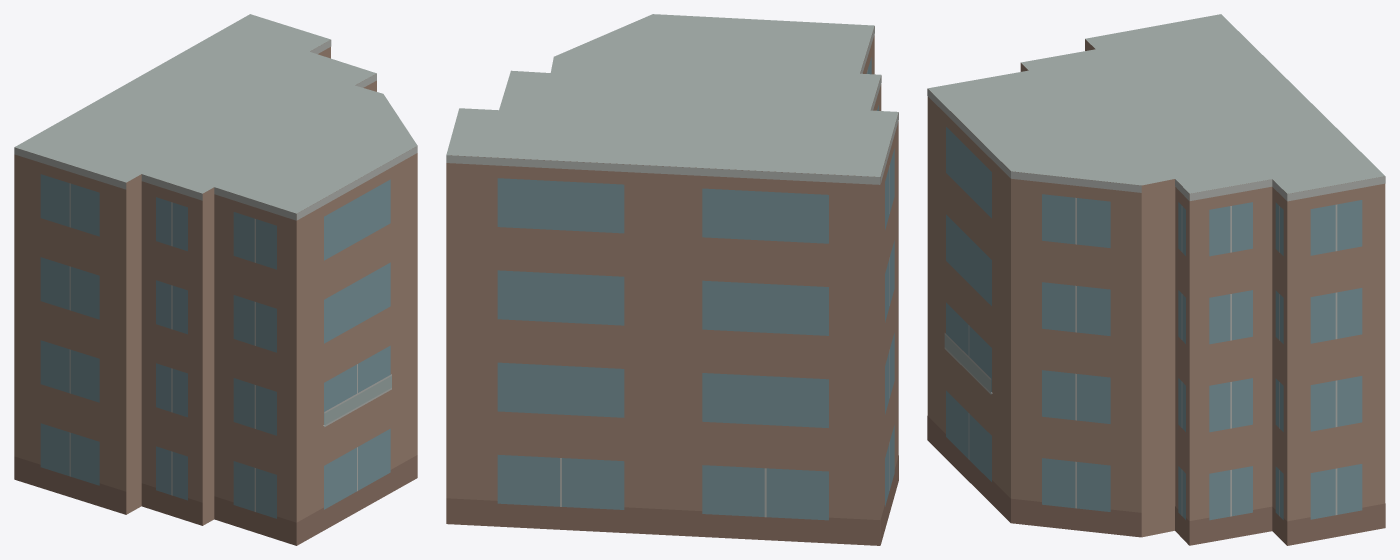
The model's file is survey-upis-32920790.glb.
3 renders of one model, left to right at view 1: azimuth 30°, elevation 25°; view 2: azimuth 150°, elevation 25°; view 3: azimuth 270°, elevation 25°, orthographic. The views are drawn at different scales.
Parts seen in each view (by area): view 1: survey-upis-32920790.tmp; view 2: survey-upis-32920790.tmp; view 3: survey-upis-32920790.tmp.
Part boxes in pixels (box(x1,y1,x2,y2)): survey-upis-32920790.tmp: box(14, 14, 417, 545); survey-upis-32920790.tmp: box(446, 14, 898, 545); survey-upis-32920790.tmp: box(927, 14, 1385, 545).
Bounding box in the file's own units: 12.58 × 11.46 × 13.53.
